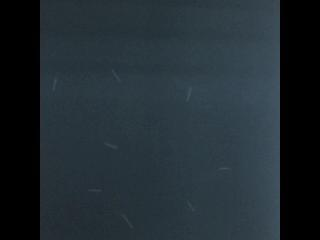scratch: (47, 69, 72, 99), (117, 210, 139, 233), (175, 80, 194, 105), (108, 65, 126, 88), (100, 137, 124, 154), (84, 181, 105, 199), (182, 192, 199, 212), (213, 161, 234, 176)
